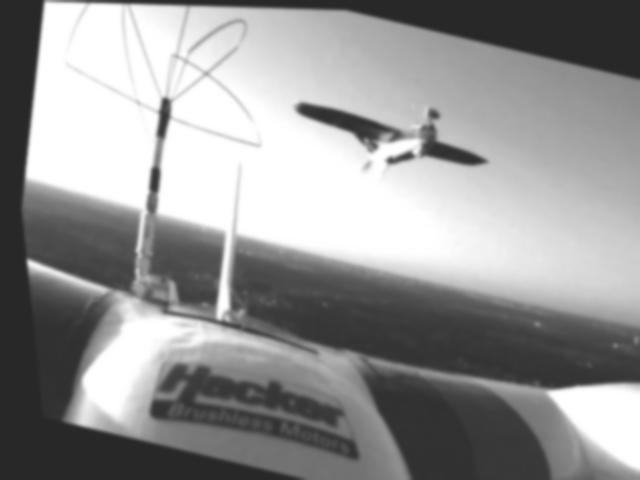hedef: (264, 61, 519, 215)
